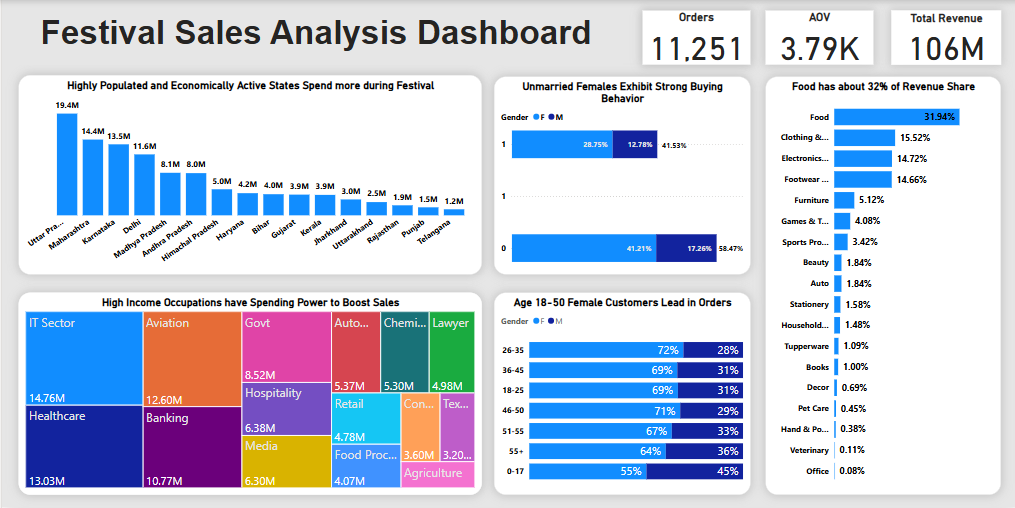

The page's visual inventory and layout, read from the dashboard file:
{"tool":"powerbi","page":{"name":"Page 4","canvas":[1700,850],"ordinal":1},"visuals":[{"type":"clusteredBarChart","title":"Food has about 32% of Revenue Share ","fields":{"Category":["Sheet1.Product_Category"],"Y":["Sum(Sheet1.Amount)"]},"box":[1277.5,128,394,700.3],"z":0},{"type":"hundredPercentStackedBarChart","title":"Age 18-50 Female Customers Lead in Orders ","fields":{"Category":["Sheet1.Age_Group"],"Series":["Sheet1.Gender"],"Y":["CountNonNull(Sheet1.SNo)"]},"box":[823.2,489.4,429.2,338.8],"z":1000},{"type":"treemap","title":"High Income Occupations have Spending Power to Boost Sales ","fields":{"Group":["Sheet1.Occupation"],"Values":["Sum(Sheet1.Amount)"]},"box":[27.6,489.4,775.5,338.8],"z":2000},{"type":"barChart","title":"Unmarried Females Exhibit Strong Buying Behavior","fields":{"Category":["Sheet1.Marital_Status"],"Y":["Sum(Sheet1.Amount)"],"Series":["Sheet1.Gender"]},"box":[823.2,128,429.2,331.3],"z":3000},{"type":"clusteredColumnChart","title":"Highly Populated and Economically Active States Spend more during Festival","fields":{"Category":["Sheet1.State"],"Y":["Sum(Sheet1.Amount)"]},"box":[27.6,125.5,775.5,333.8],"z":4000},{"type":"card","title":"Total Revenue","fields":{"Values":["Sum(Sheet1.Amount)"]},"box":[1488.3,17.6,183.2,90.4],"z":5000},{"type":"card","title":"Orders ","fields":{"Values":["Sheet1.AOV"]},"box":[1277.5,17.6,180.7,90.4],"z":6000},{"type":"card","title":"Accounts","fields":{"Values":["Count(Sheet1.User_ID)"]},"box":[1071.7,17.6,180.7,90.4],"z":7000},{"type":"textbox","box":[27.6,17.6,1011.5,90.4],"z":8000}]}

Visuals, with their boxes in screenshot pixels (x1, y1, x2, y2), scaled from the page's 1700x850 canvas onto the 1015x508 screenshot:
"Food has about 32% of Revenue Share " clusteredBarChart: (763, 76, 998, 495)
"Age 18-50 Female Customers Lead in Orders " hundredPercentStackedBarChart: (491, 292, 748, 495)
"High Income Occupations have Spending Power to Boost Sales " treemap: (16, 292, 479, 495)
"Unmarried Females Exhibit Strong Buying Behavior" barChart: (491, 76, 748, 274)
"Highly Populated and Economically Active States Spend more during Festival" clusteredColumnChart: (16, 75, 479, 274)
"Total Revenue" card: (889, 11, 998, 65)
"Orders " card: (763, 11, 871, 65)
"Accounts" card: (640, 11, 748, 65)
textbox: (16, 11, 620, 65)
